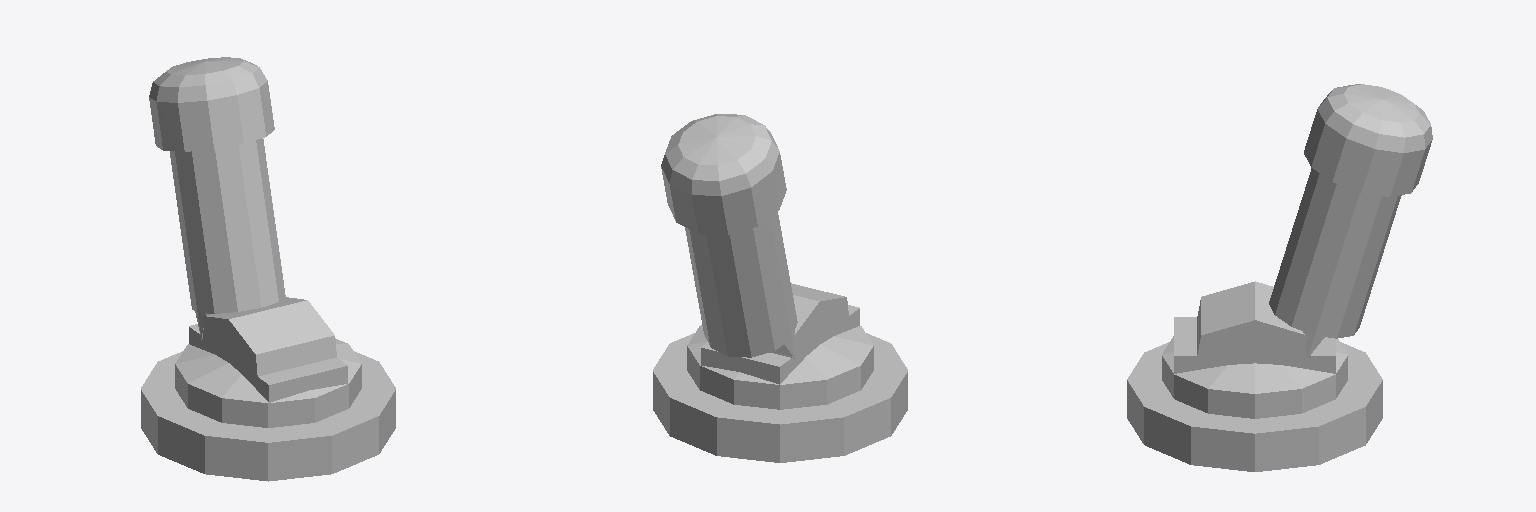
File: Sw_Alert - On.obj
3 renders of one model, left to right at view 1: azimuth 30°, elevation 25°; view 2: azimuth 150°, elevation 25°; view 3: azimuth 270°, elevation 25°, orthographic.
Parts seen in each view (by area): view 1: Switch, LockNut, SwitchBase, LockingTine, Slider; view 2: Switch, LockNut, SwitchBase, Slider, LockingTine; view 3: Switch, LockNut, SwitchBase, LockingTine, Slider.
Part boxes in pixels (bbox=[...]): Switch: bbox=[149, 57, 285, 339]; LockNut: bbox=[141, 351, 395, 481]; SwitchBase: bbox=[175, 338, 361, 427]; LockingTine: bbox=[203, 297, 336, 377]; Slider: bbox=[189, 324, 347, 402]; Switch: bbox=[661, 114, 797, 358]; LockNut: bbox=[653, 333, 907, 462]; SwitchBase: bbox=[687, 325, 873, 409]; Slider: bbox=[701, 305, 859, 384]; LockingTine: bbox=[770, 283, 848, 357]; Switch: bbox=[1269, 84, 1432, 358]; LockNut: bbox=[1127, 342, 1382, 471]; SwitchBase: bbox=[1162, 336, 1347, 418]; LockingTine: bbox=[1197, 281, 1310, 357]; Slider: bbox=[1174, 317, 1335, 373].
Bounding box in the file's own units: 6 × 8.4 × 7.17.